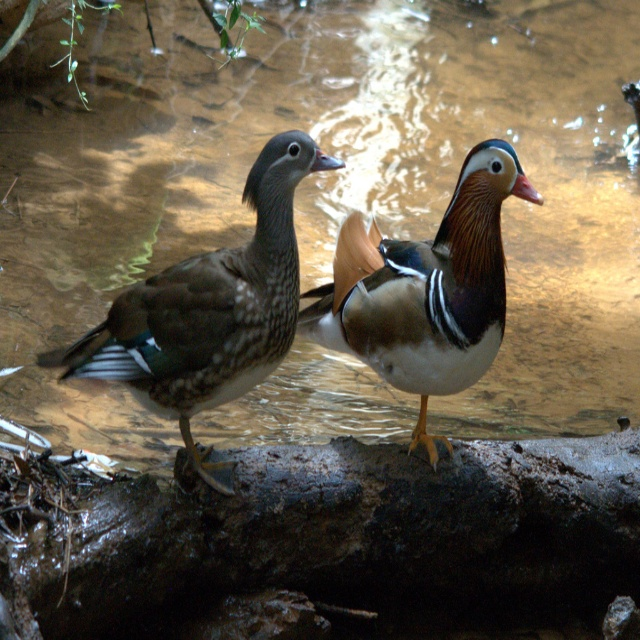Duck: (34, 127, 347, 488), (335, 124, 538, 469)
